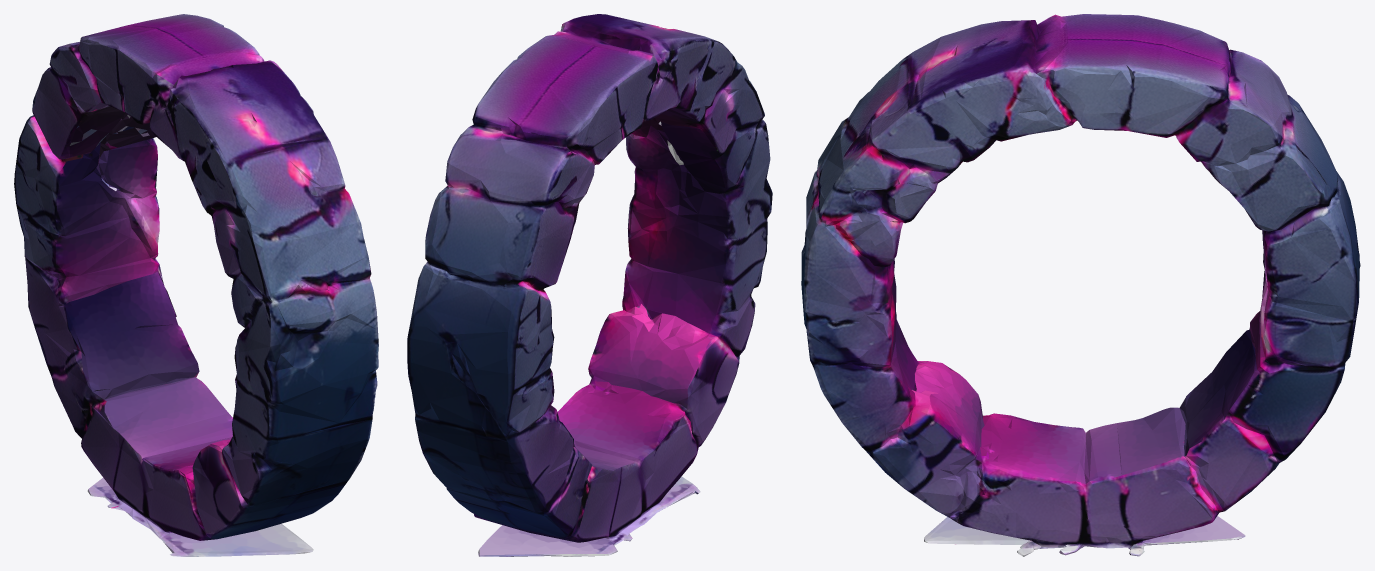
File: solitude-ring-fragment-east.collider.glb
3 renders of one model, left to right at view 1: azimuth 30°, elevation 25°; view 2: azimuth 150°, elevation 25°; view 3: azimuth 270°, elevation 25°, orthographic. The views are drawn at different scales.
Parts seen in each view (by area): view 1: temp_mesh.ply; view 2: temp_mesh.ply; view 3: temp_mesh.ply.
Boxes of the visible parts, box(x1,y1,x2,y2) form: temp_mesh.ply: box(14, 14, 378, 556); temp_mesh.ply: box(407, 14, 772, 556); temp_mesh.ply: box(801, 14, 1360, 556).
Bounding box in the file's own units: 0.5897 × 1.88 × 1.97.
Materials: 1 (1 with a texture image).
